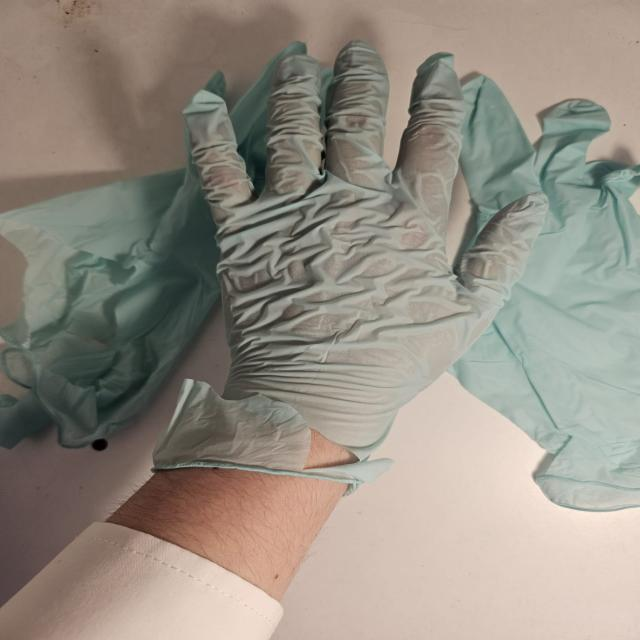gloves_damaged: (143, 38, 550, 500)
